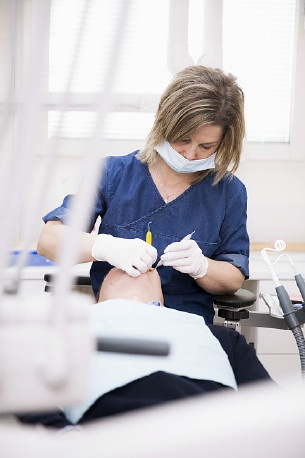Mask: (170, 120, 225, 175)
